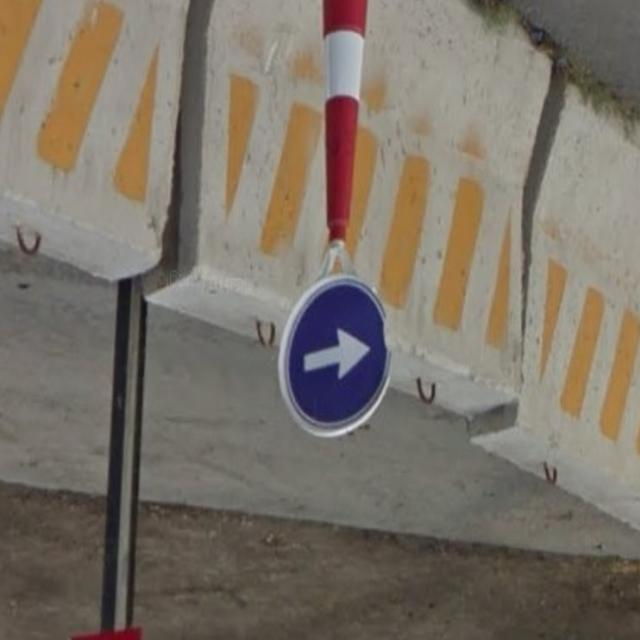Turn Right: (268, 285, 396, 426)
